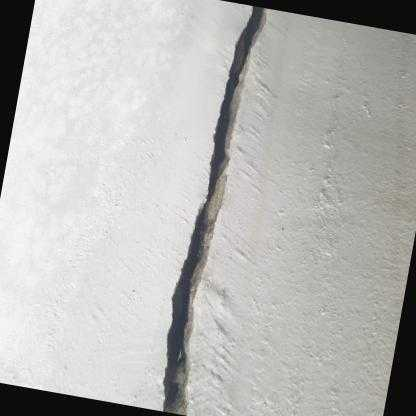crack: (161, 4, 262, 415)
